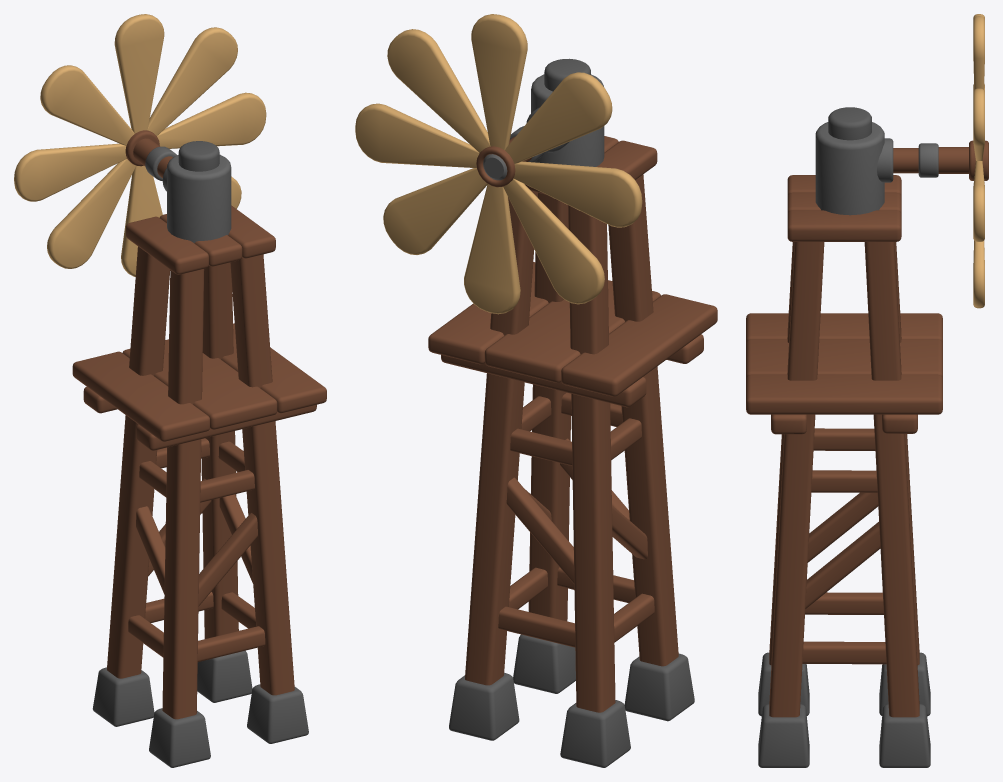
Rendered from weather_vane.fbx.
3 renders of one model, left to right at view 1: azimuth 30°, elevation 25°; view 2: azimuth 150°, elevation 25°; view 3: azimuth 270°, elevation 25°, orthographic. The views are drawn at different scales.
Visible parts, largest first — view 1: Cube.006, Cylinder.003; view 2: Cube.006, Cylinder.003; view 3: Cube.006, Cylinder.003.
Boxes of the visible parts, x1,y1,x2,y2 form: Cube.006: [72, 138, 326, 767]; Cylinder.003: [14, 14, 266, 276]; Cube.006: [428, 58, 717, 767]; Cylinder.003: [355, 14, 642, 314]; Cube.006: [746, 107, 968, 767]; Cylinder.003: [969, 14, 988, 308].
Size of the model in its own units: 7.3 by 5.7 by 18.48.
